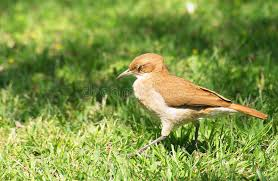Walking: (102, 47, 272, 164)
